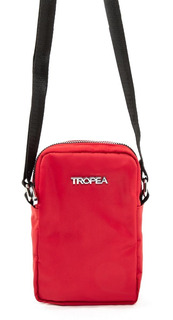cartera: (19, 136, 151, 307)
